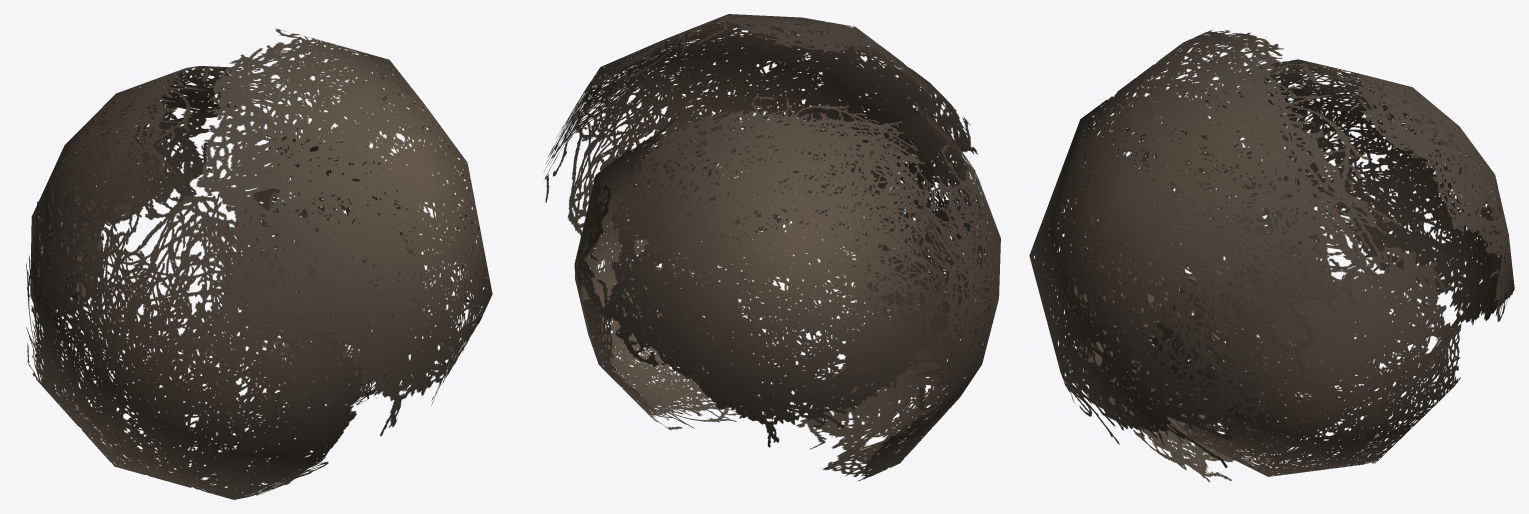
The model's file is tumbleweed_0.glb.
3 views of the same model, side by side, from view 1: azimuth 30°, elevation 25°; view 2: azimuth 150°, elevation 25°; view 3: azimuth 270°, elevation 25° (orthographic). The views are drawn at different scales.
Visible parts, largest first — view 1: Sphere.004; view 2: Sphere.004; view 3: Sphere.004.
Boxes of the visible parts, <box> form: Sphere.004: <box>26,28,492,499</box>; Sphere.004: <box>544,14,1000,481</box>; Sphere.004: <box>1029,30,1514,482</box>.
Bounding box in the file's own units: 0.9686 × 0.9505 × 0.9224.
Materials: 1 (1 with a texture image).
